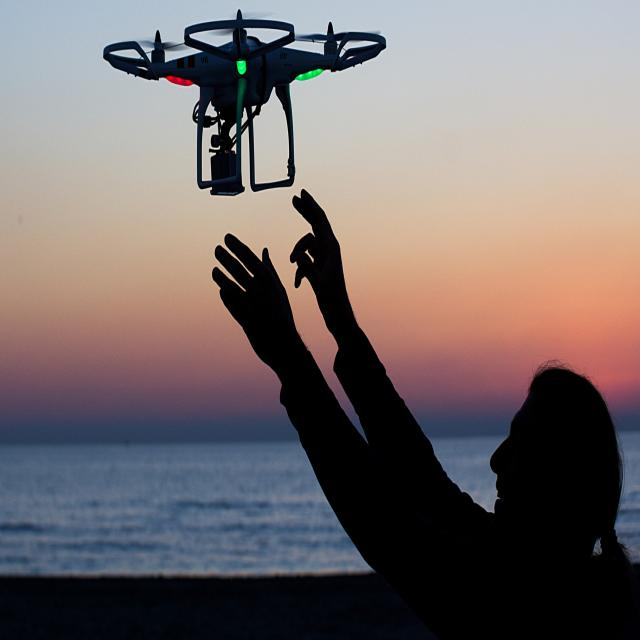drone: (99, 4, 394, 200)
